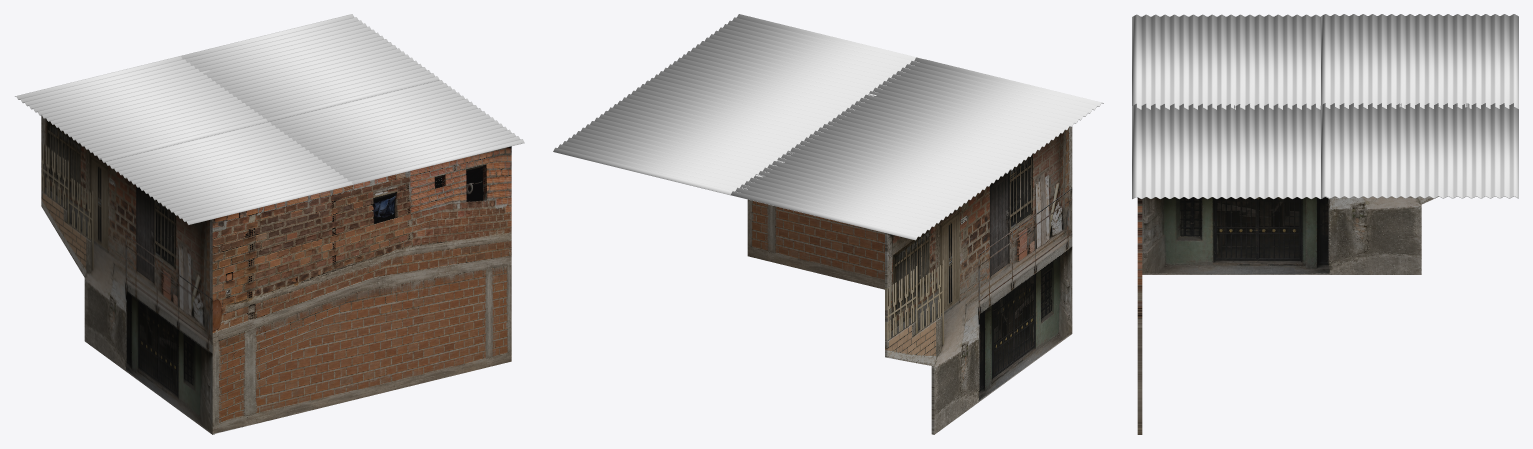
The model's file is casaA_derecha_07.fbx.
3 views of the same model, side by side, from view 1: azimuth 30°, elevation 25°; view 2: azimuth 150°, elevation 25°; view 3: azimuth 270°, elevation 25° (orthographic). The views are drawn at different scales.
Visible parts, largest first — view 1: casaA_derecha_07B.001, Techo_08.007, casaA_derecha_07.001; view 2: Techo_08.007, casaA_derecha_07.001, casaA_derecha_07B.001; view 3: Techo_08.007, casaA_derecha_07.001, casaA_derecha_07B.001.
Part boxes in pixels (x1=…): casaA_derecha_07B.001: x1=212, y1=146, x2=511, y2=434; Techo_08.007: x1=14, y1=14, x2=524, y2=224; casaA_derecha_07.001: x1=41, y1=115, x2=214, y2=434; Techo_08.007: x1=553, y1=14, x2=1103, y2=240; casaA_derecha_07.001: x1=885, y1=126, x2=1072, y2=434; casaA_derecha_07B.001: x1=747, y1=199, x2=884, y2=289; Techo_08.007: x1=1132, y1=14, x2=1518, y2=199; casaA_derecha_07.001: x1=1142, y1=196, x2=1438, y2=274; casaA_derecha_07B.001: x1=1137, y1=197, x2=1142, y2=434.
Size of the model in its own units: 871 by 548 by 782.
